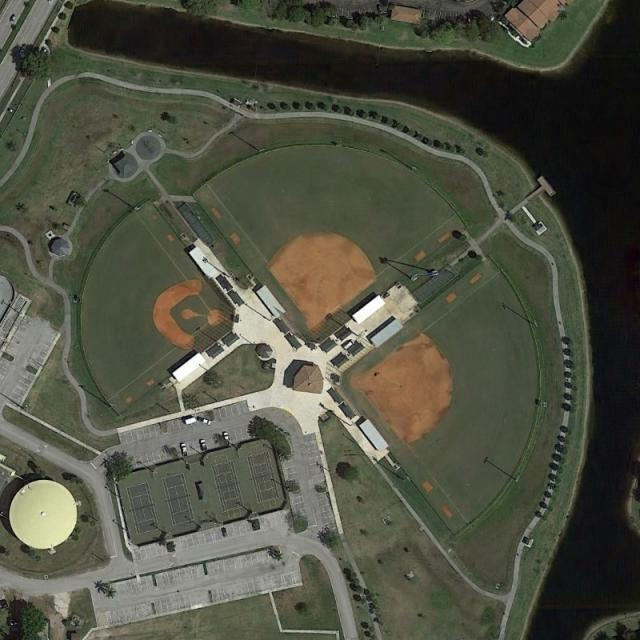vehicle: (180, 441, 189, 458), (343, 338, 355, 350), (199, 438, 208, 453), (222, 430, 230, 444), (201, 417, 213, 426), (10, 13, 16, 24), (222, 527, 228, 537), (378, 5, 383, 13)
